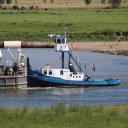tugboat: (27, 34, 122, 90)
